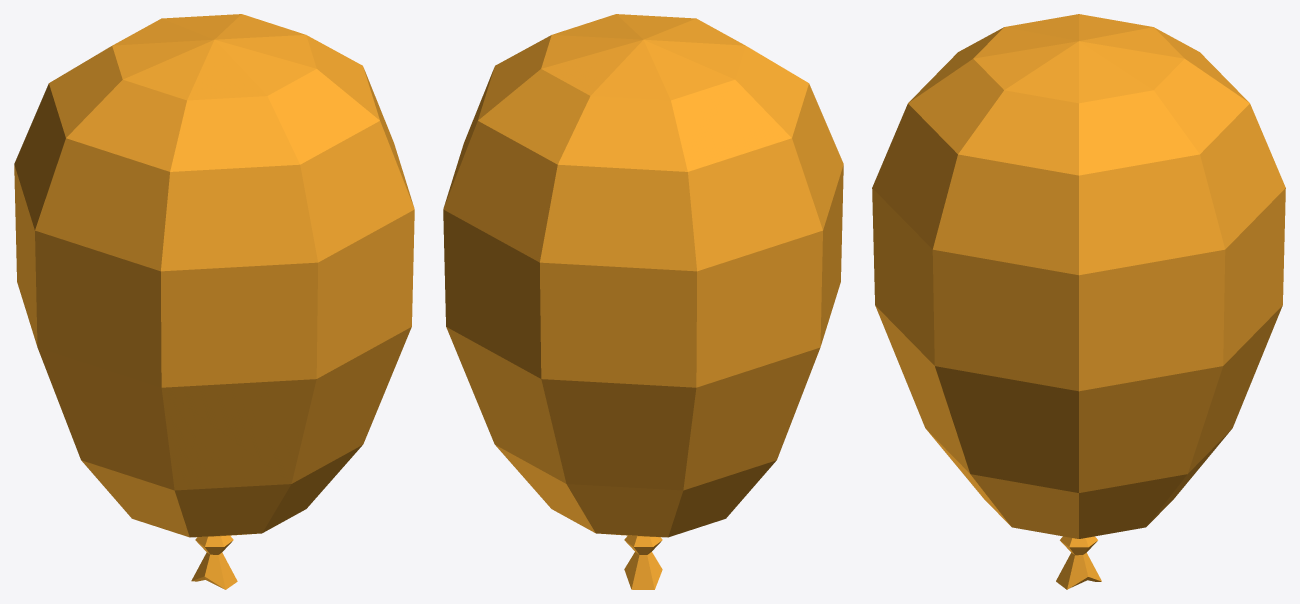
Rendered from SM_Balloon_Small_Plain.fbx.
3 renders of one model, left to right at view 1: azimuth 30°, elevation 25°; view 2: azimuth 150°, elevation 25°; view 3: azimuth 270°, elevation 25°, orthographic.
Parts seen in each view (by area): view 1: balloon-small-plain; view 2: balloon-small-plain; view 3: balloon-small-plain.
Boxes of the visible parts, bbox=[...] form: balloon-small-plain: bbox=[14, 14, 414, 589]; balloon-small-plain: bbox=[443, 14, 843, 589]; balloon-small-plain: bbox=[872, 14, 1285, 589].
Size of the model in its own units: 0.2621 by 0.3781 by 0.2621.
